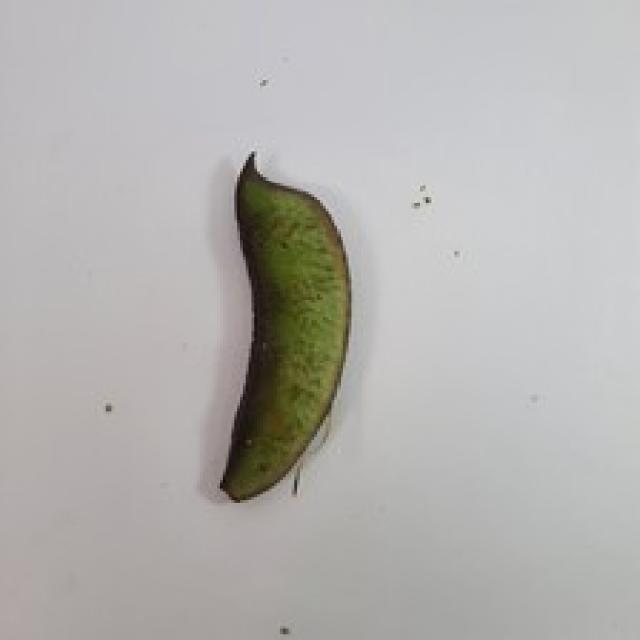Bean: (217, 148, 352, 503)
